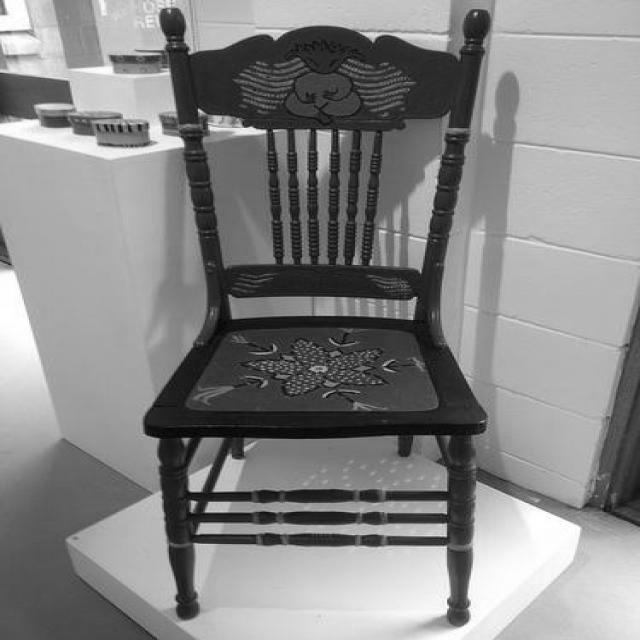chair: (140, 7, 486, 626)
